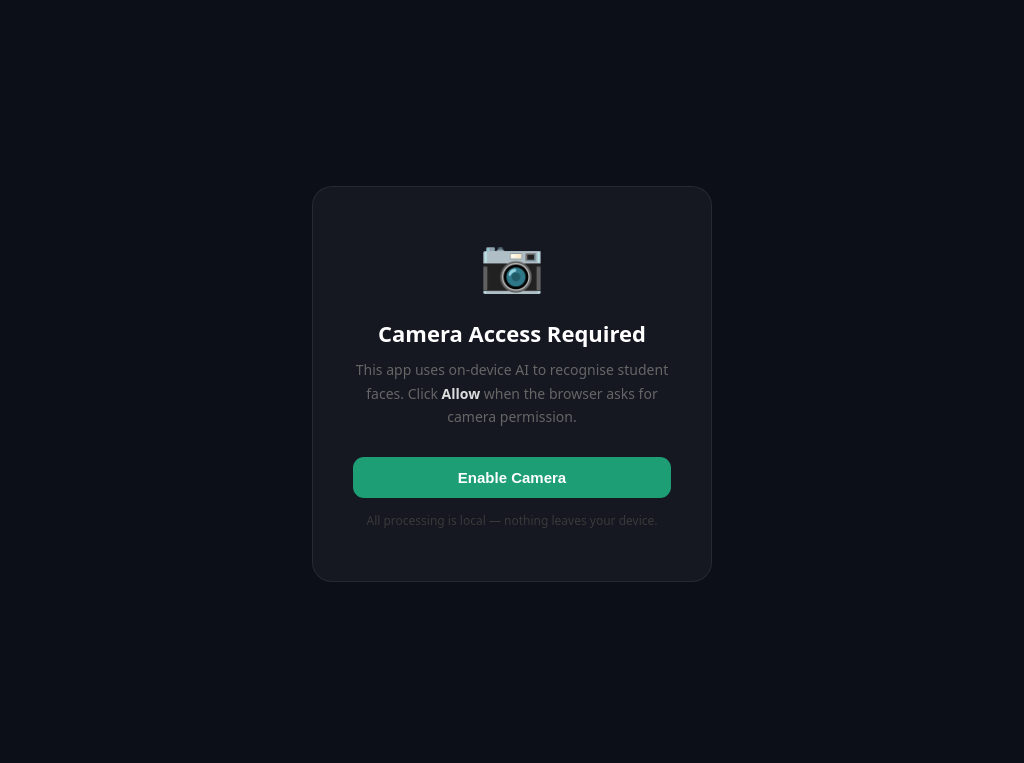
Test: App › adds a student and rejects duplicates
Click the button "Enable Camera": click(512, 478) [353,457,671,498]
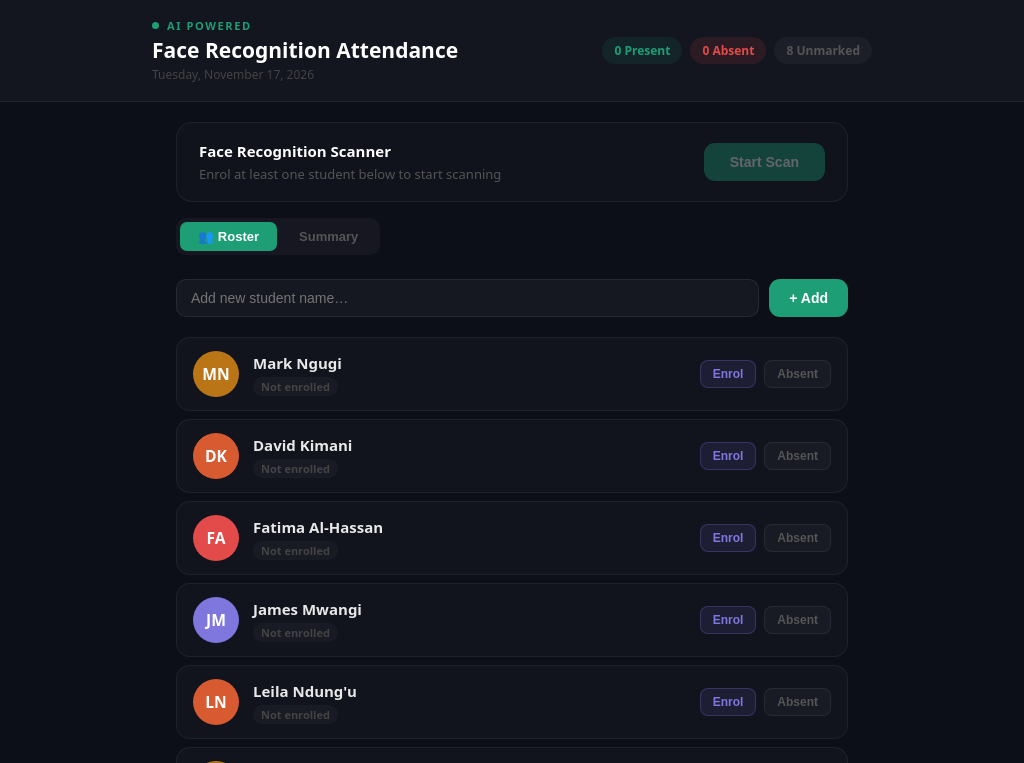
In the field labelled "Add new student name…": (468, 298) [176,279,759,317], type "Ada Lovelace"
Then press Enter
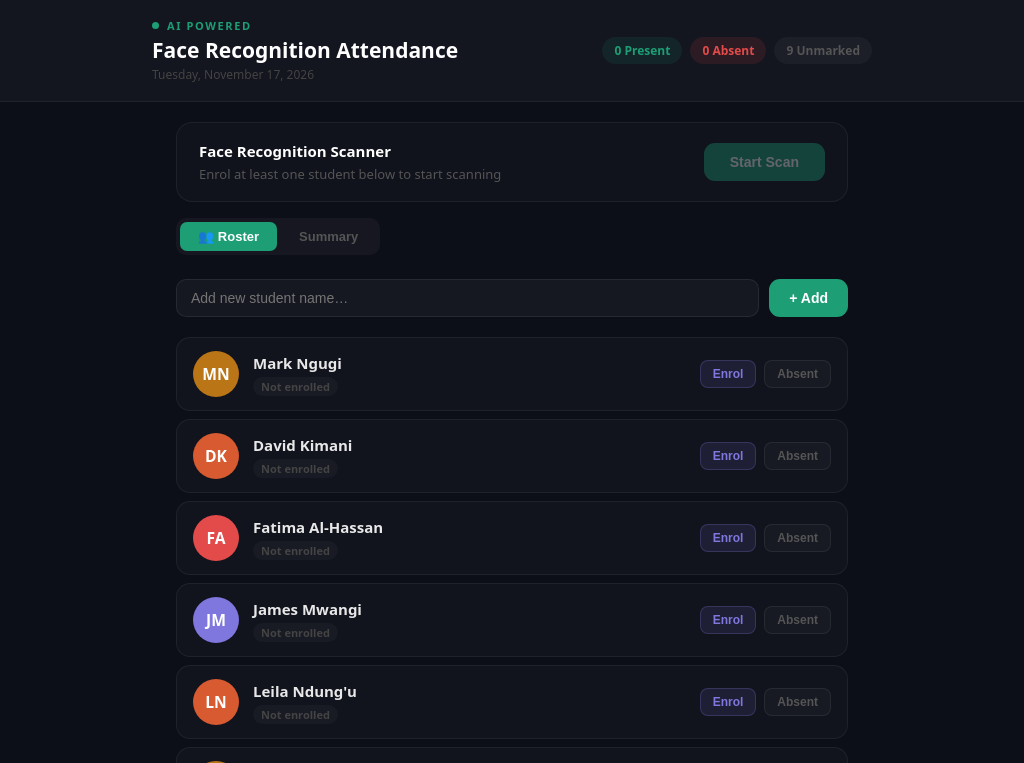
Expected: the field labelled "Add new student name…" is empty
In the field labelled "Add new student name…": (468, 298) [176,279,759,317], type "ada lovelace"
Then press Enter
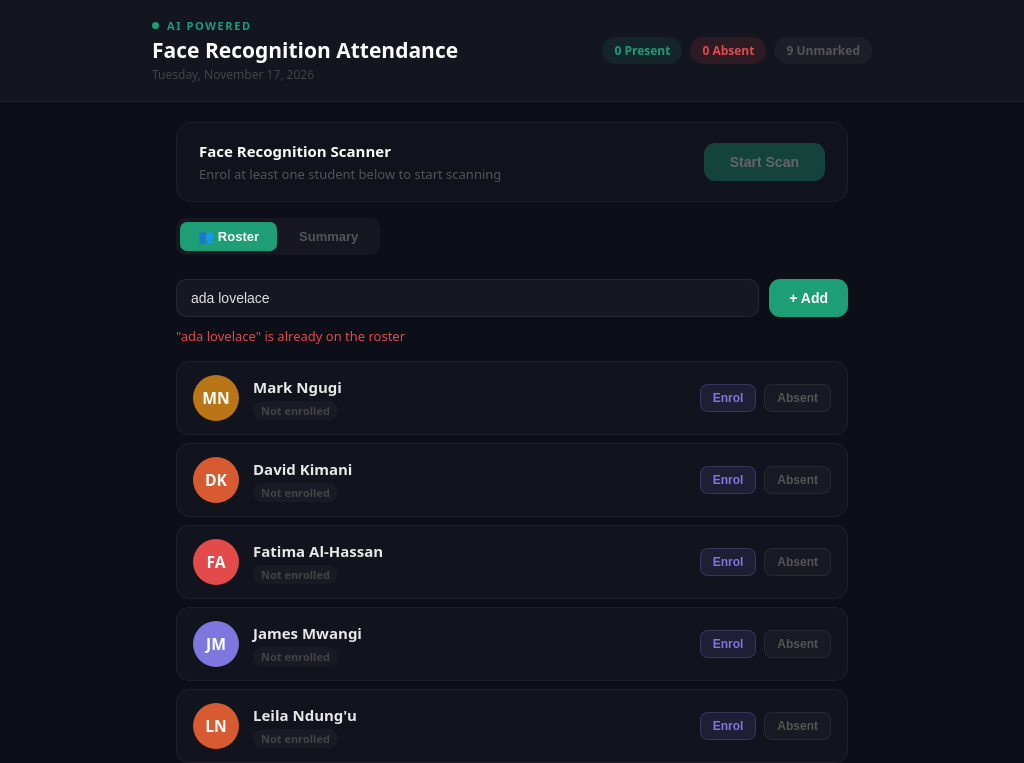
Expected: the message shows "already on the roster", [176,327,405,345]
